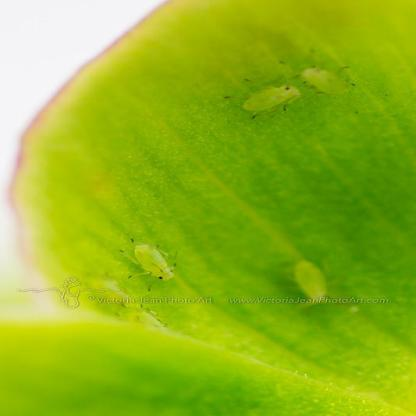aphid: (111, 226, 195, 290), (278, 248, 356, 314), (284, 50, 378, 103), (223, 70, 306, 122)
